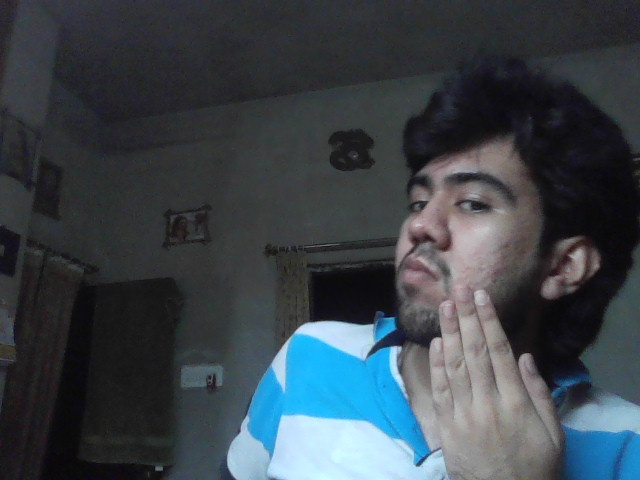ThankYou: (425, 285, 563, 480)
